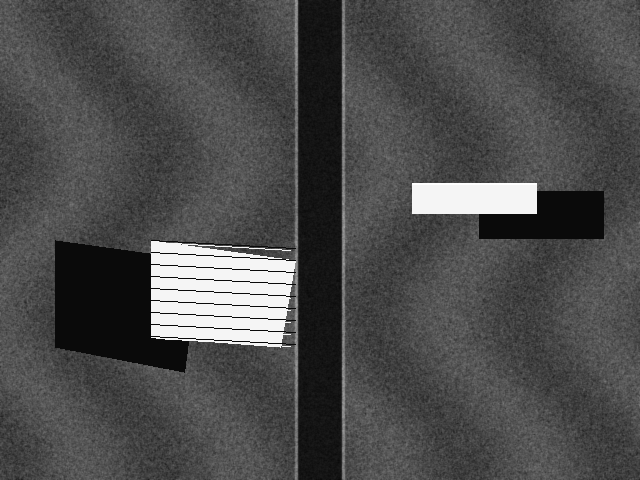Fishing Gear: (151, 240, 295, 347)
Metal Debris: (412, 183, 536, 213)
